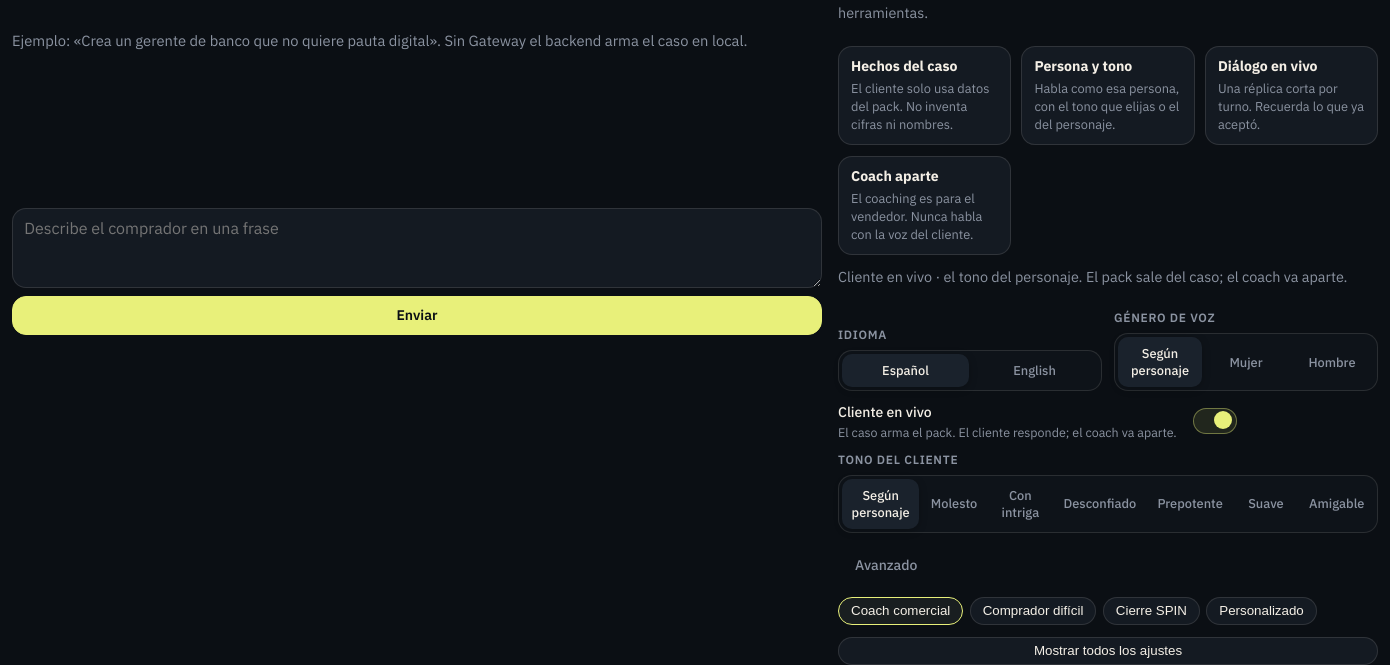
Test: AgentHarnessScreen › shows PREFILLED practice cards and keeps the prompt behind advanced
The width and height of the screenshot is (1390, 665).
(page scrolled)
expect the heading "Hechos del caso" is shown: met, box [851,57,958,75]
expect the heading "Coach aparte" is shown: met, box [851,167,939,185]
Click the button "Mostrar todos los ajustes". click: (1108,651)
box: [838,637,1378,664]
(page scrolled)
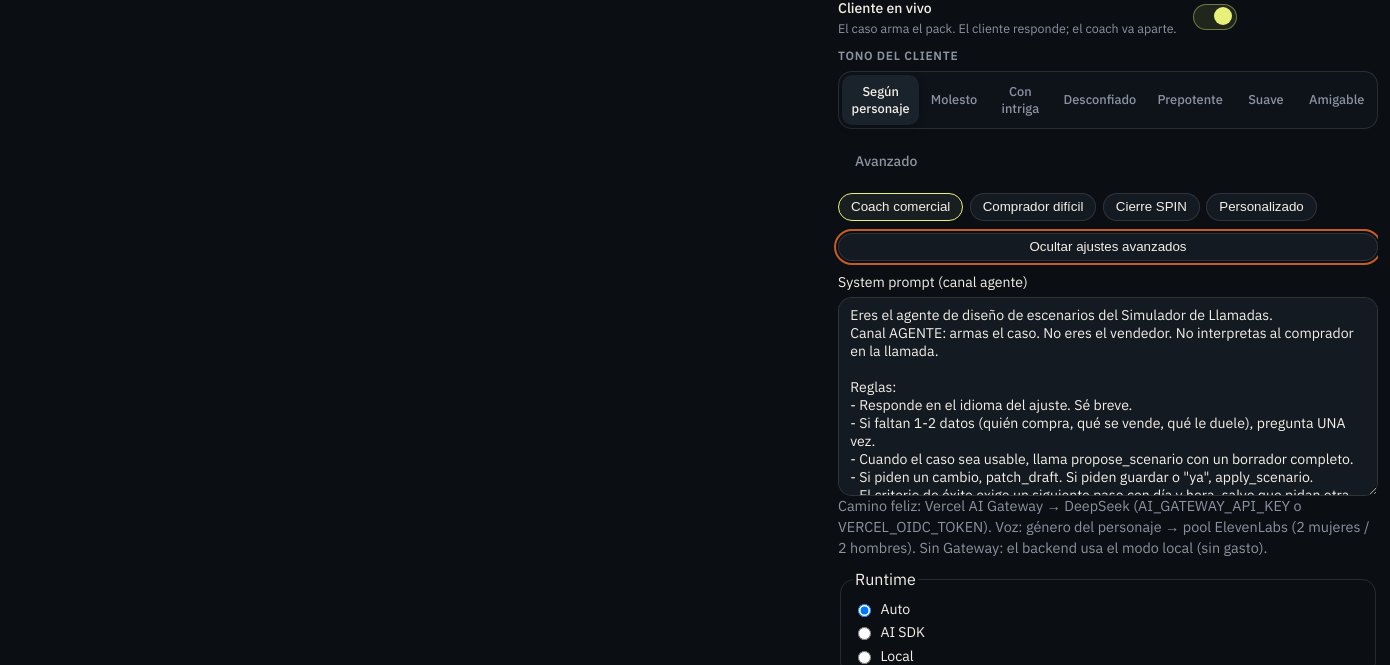
expect the text "System prompt (canal agente)" is shown: met, box [838,273,1028,291]
